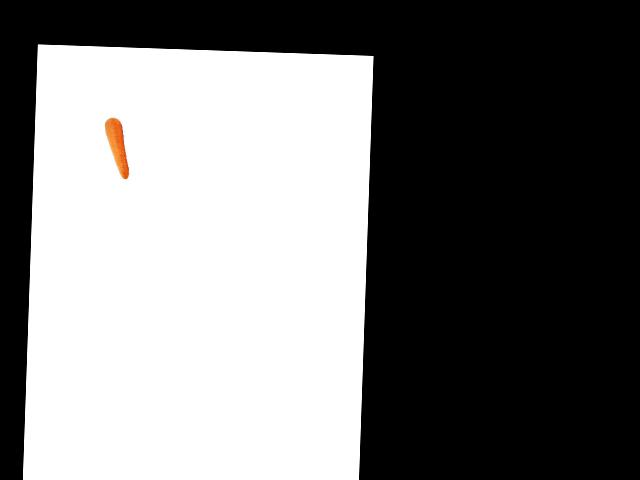carrot: (100, 116, 130, 182)
